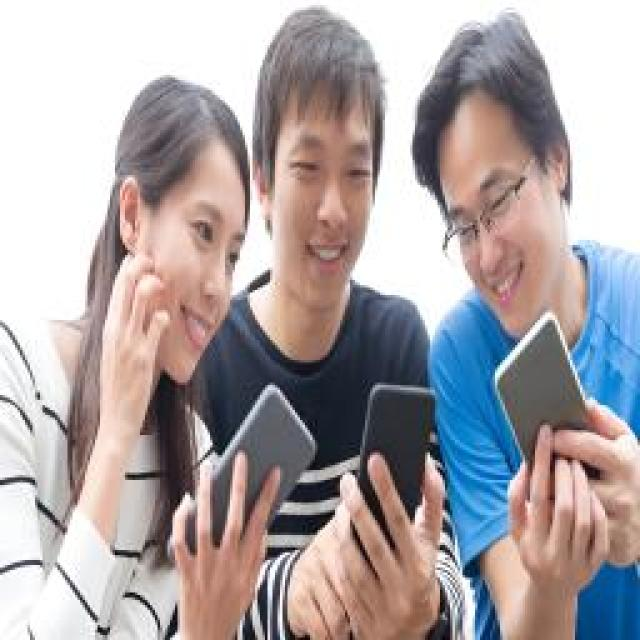phone: (0, 75, 315, 640), (192, 0, 460, 640), (410, 18, 640, 638)
